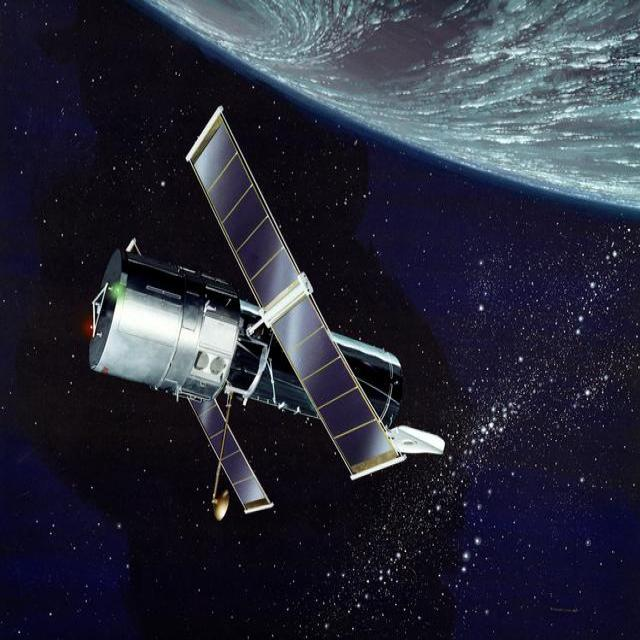satellite: (89, 107, 445, 519)
